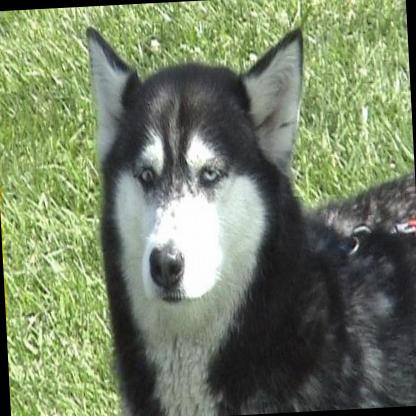Eskimo_dog: (72, 6, 416, 416)
